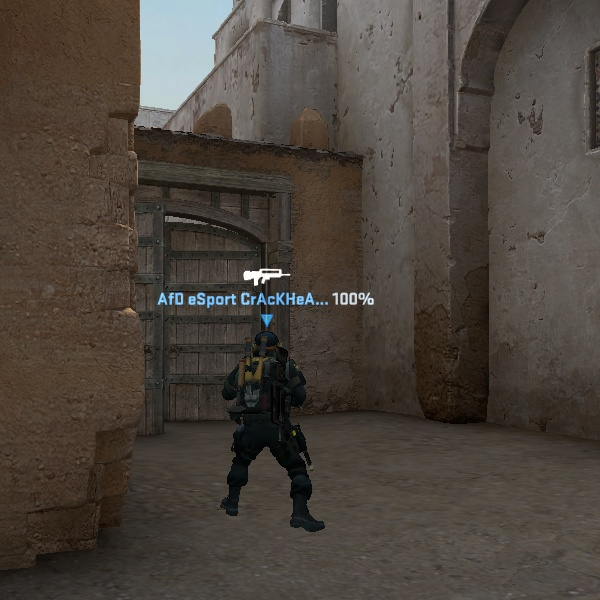ct_body: (207, 326, 326, 530)
ct_head: (243, 326, 288, 368)
